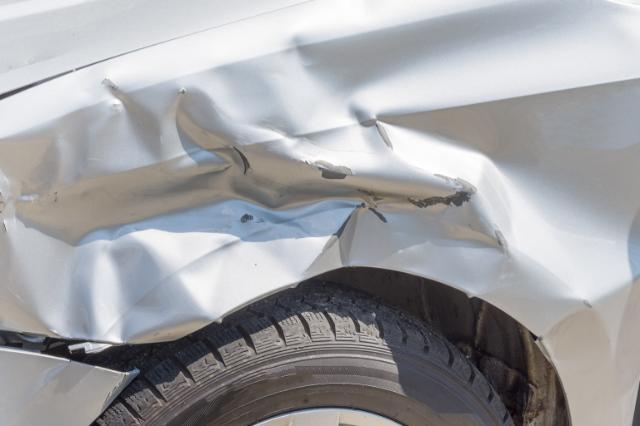Fender: (0, 27, 635, 362)
